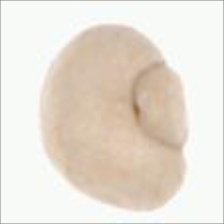L5: (126, 56, 192, 156), (35, 82, 60, 160)
L6: (33, 17, 194, 216)
